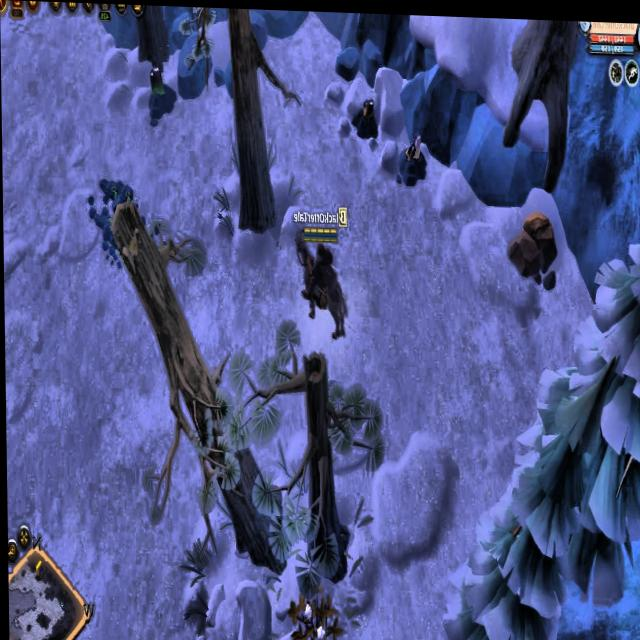copperore: (395, 125, 428, 184), (350, 89, 379, 142)
limestone: (504, 205, 560, 282)
tinore: (144, 59, 177, 117)
